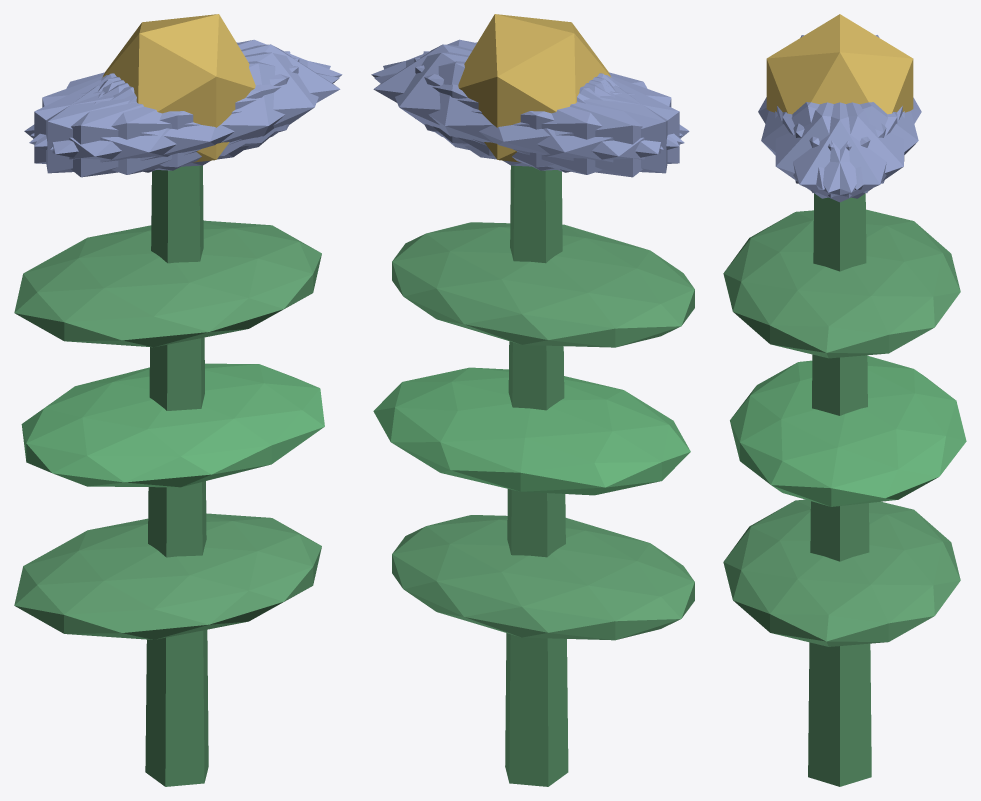
File: adenostemma-lavenia.glb
3 views of the same model, side by side, from view 1: azimuth 30°, elevation 25°; view 2: azimuth 150°, elevation 25°; view 3: azimuth 270°, elevation 25° (orthographic).
Visible parts, largest first — view 1: leaf2, leaf0, leaf1, stem, center, petal1, petal6, petal2, petal5, petal7, petal0, petal4 (+2 smaller); view 2: leaf1, leaf2, leaf0, stem, center, petal8, petal3, petal7, petal4, petal2, petal0, petal5 (+2 smaller); view 3: leaf2, leaf1, leaf0, stem, center, petal0, petal4, petal5, petal1, petal8.
Part boxes in pixels (x1,y1,x2,y2): leaf2: (14, 220, 321, 347); leaf0: (14, 513, 321, 639); leaf1: (21, 363, 324, 487); stem: (145, 165, 208, 786); center: (102, 14, 255, 162); petal1: (29, 61, 339, 174); petal6: (24, 75, 248, 177); petal2: (46, 51, 290, 173); petal5: (50, 52, 330, 167); petal7: (34, 57, 299, 170); petal0: (102, 44, 340, 156); petal4: (30, 39, 342, 146); leaf1: (373, 367, 690, 495); leaf2: (392, 222, 694, 347); leaf0: (392, 515, 694, 640); stem: (505, 165, 568, 786); center: (458, 14, 611, 162); petal8: (374, 61, 684, 174); petal3: (465, 75, 689, 177); petal7: (423, 51, 667, 173); petal4: (383, 52, 663, 167); petal2: (414, 57, 679, 170); petal0: (373, 44, 611, 156); petal5: (371, 39, 683, 146); leaf2: (723, 209, 960, 358); leaf1: (730, 355, 966, 506); leaf0: (723, 499, 960, 646); stem: (808, 193, 871, 786); center: (766, 14, 913, 114); petal0: (777, 102, 902, 202); petal4: (782, 102, 904, 198); petal5: (775, 102, 897, 198); petal1: (761, 102, 886, 189); petal8: (793, 102, 918, 189).
Bounding box in the file's own units: 0.149 × 0.3408 × 0.1016.
